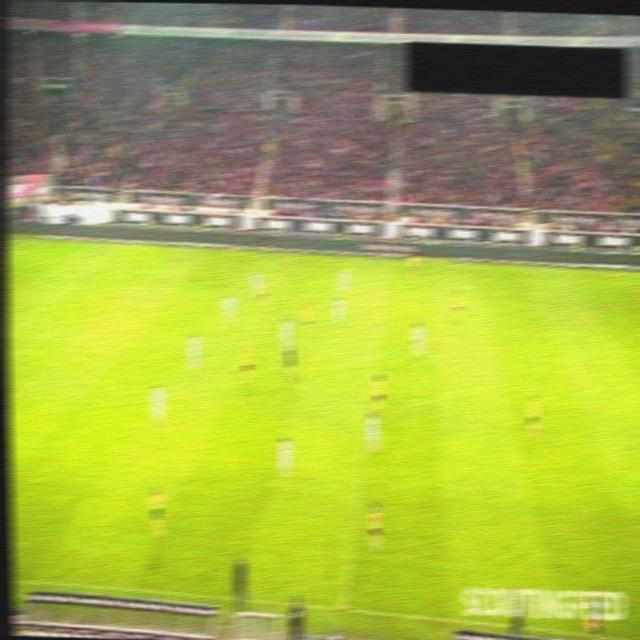bigarea_top_inner: (77, 270, 93, 281)
corner: (5, 235, 15, 246)
halfcircle_bottom: (357, 399, 378, 412)
halfcircle_top: (369, 321, 385, 334)
midline_bottom_intersection: (332, 600, 353, 616)
midline_top_intersection: (379, 256, 394, 268)
top_arc_area_intersection: (32, 304, 48, 316)
